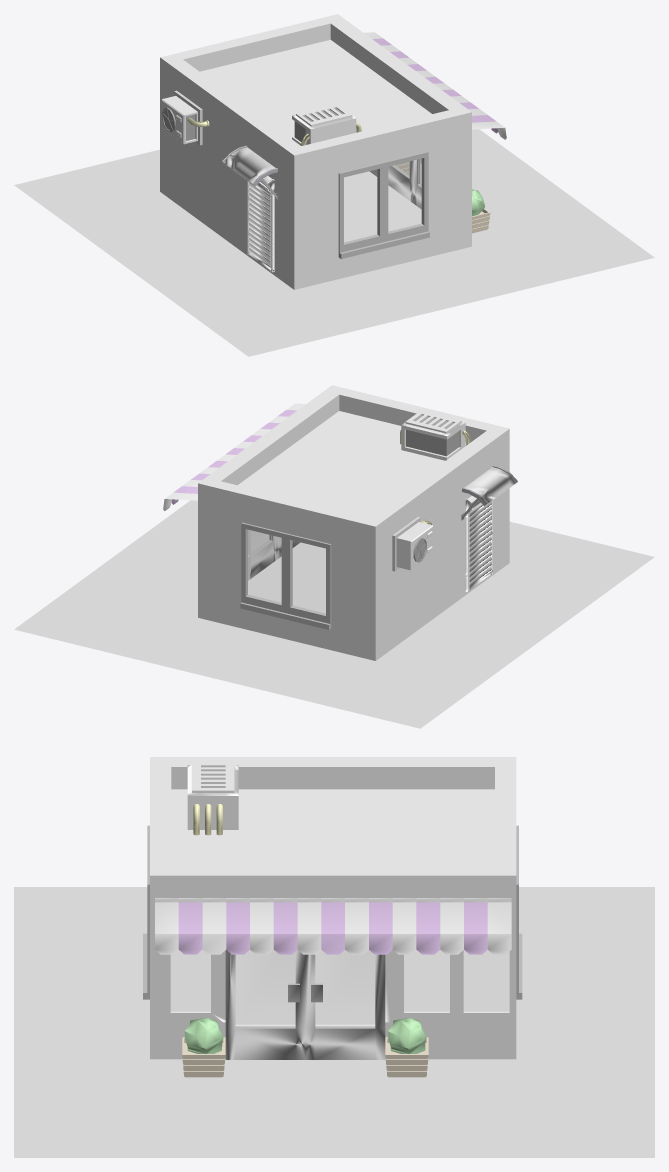
File: CoffeeShop_final.fbx
3 renders of one model, top to bottom at view 1: azimuth 30°, elevation 25°; view 2: azimuth 150°, elevation 25°; view 3: azimuth 270°, elevation 25°, orthographic. The views are drawn at different scales.
Parts seen in each view (by area): view 1: ShopBody, ShopWalls; view 2: ShopBody, ShopWalls; view 3: ShopBody, ShopWalls.
Part boxes in pixels (x1,y1,x2,y2): ShopBody: (14, 38, 654, 356); ShopWalls: (160, 14, 506, 289); ShopBody: (14, 410, 654, 728); ShopWalls: (163, 385, 509, 660); ShopBody: (14, 763, 654, 1157); ShopWalls: (150, 757, 516, 1059).
Bounding box in the file's own units: 255 × 91.7 × 255.
